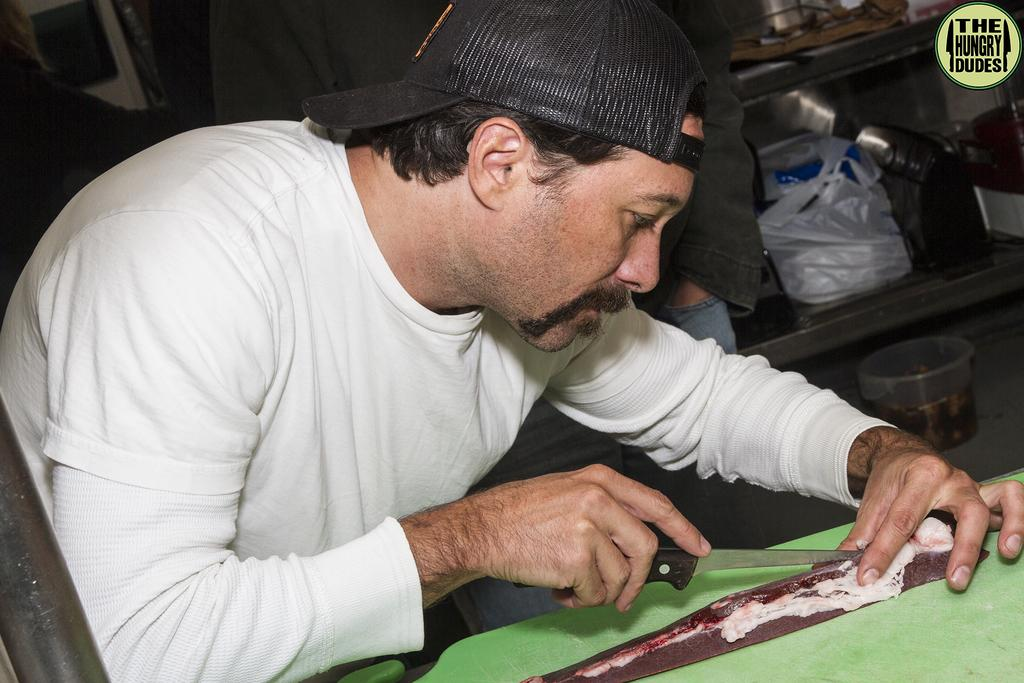Knife: (510, 542, 866, 593)
